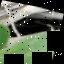Purslane: (0, 4, 63, 64)
